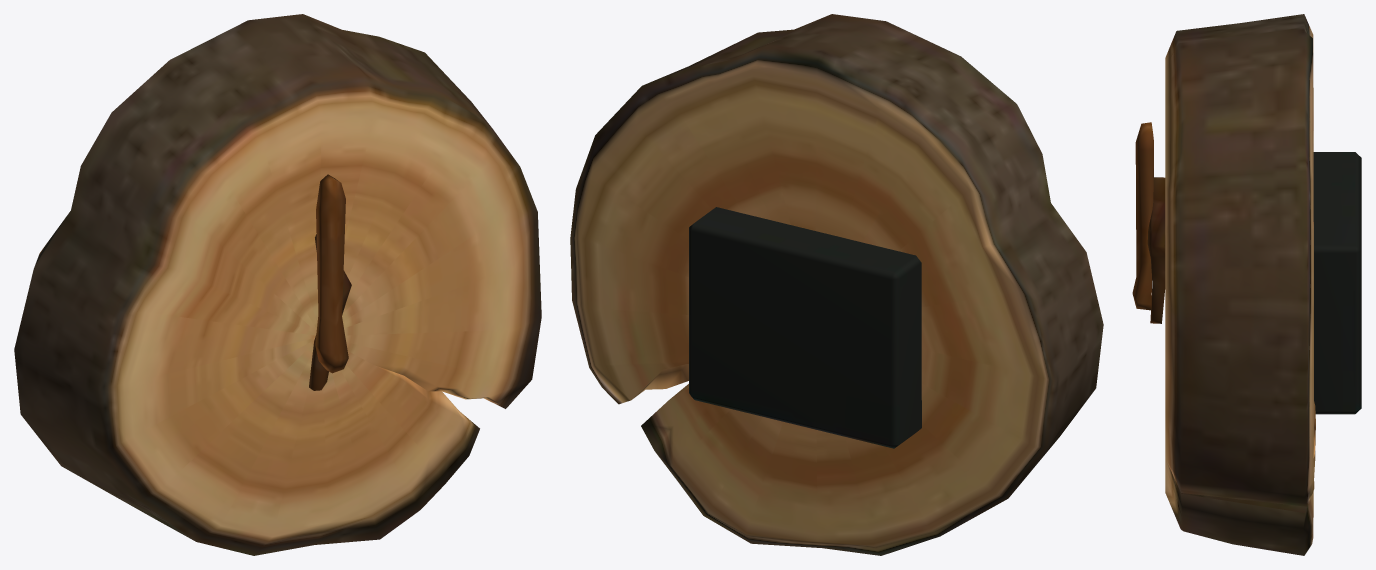
3 views of the same model, side by side, from view 1: azimuth 30°, elevation 25°; view 2: azimuth 150°, elevation 25°; view 3: azimuth 270°, elevation 25° (orthographic). The views are drawn at different scales.
Size of the model in its own units: 6.13 by 6.15 by 2.63.
1 material, 1 textured.
